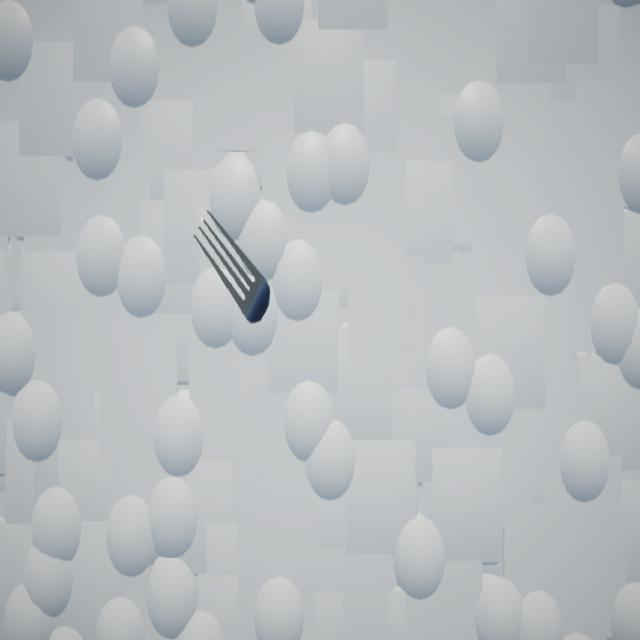top_folk: (195, 211, 271, 325)
